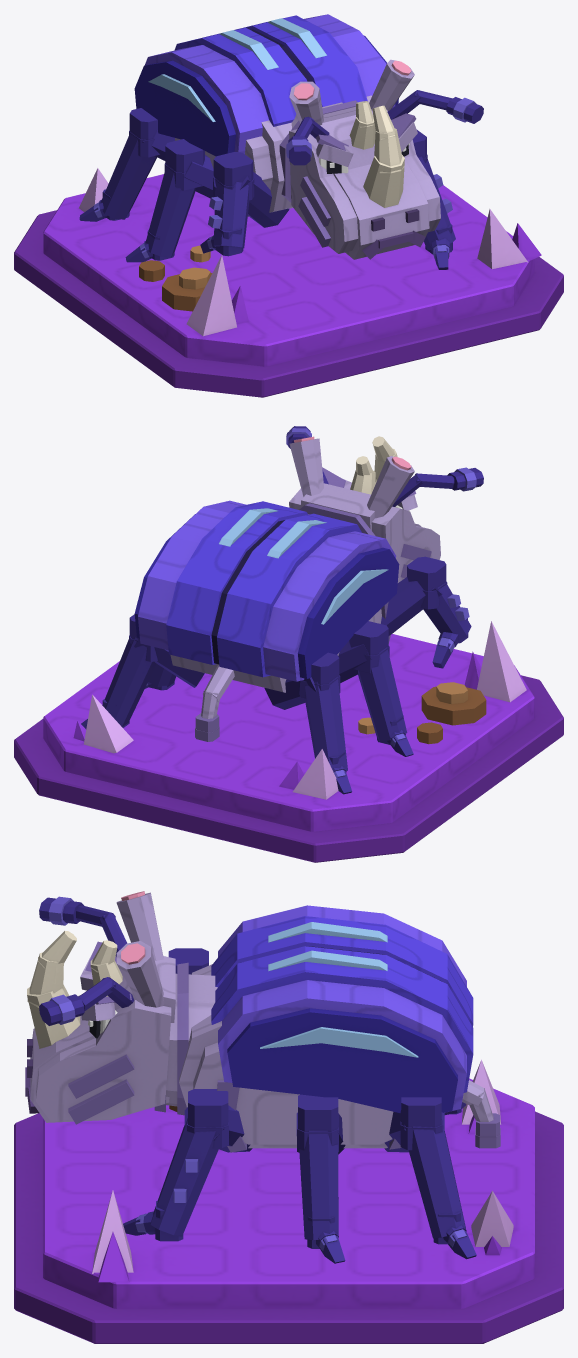
Rendered from RhinoBeetle.fbx.
3 renders of one model, top to bottom at view 1: azimuth 30°, elevation 25°; view 2: azimuth 150°, elevation 25°; view 3: azimuth 270°, elevation 25°, orthographic. The views are drawn at different scales.
Parts seen in each view (by area): view 1: Art_RhinoBeetle_Stand, Art_RhinoBeetle_Head, Art_RhinoBeetle_ElytraR, Art_RhinoBeetle_ElytraL, Art_RhinoBeetle_LegFR, Art_RhinoBeetle_LegMR, Art_RhinoBeetle_LegBR, Art_RhinoBeetle_Body, Art_RhinoBeetle_Haze, Art_RhinoBeetle_LegFL, Art_RhinoBeetle_EarL, Art_RhinoBeetle_EarR; view 2: Art_RhinoBeetle_Stand, Art_RhinoBeetle_ElytraR, Art_RhinoBeetle_ElytraL, Art_RhinoBeetle_Head, Art_RhinoBeetle_LegMR, Art_RhinoBeetle_LegFR, Art_RhinoBeetle_LegBR, Art_RhinoBeetle_LegBL, Art_RhinoBeetle_Haze, Art_RhinoBeetle_Body, Art_RhinoBeetle_EarR, Art_RhinoBeetle_Tail (+1 smaller); view 3: Art_RhinoBeetle_Stand, Art_RhinoBeetle_ElytraL, Art_RhinoBeetle_Head, Art_RhinoBeetle_ElytraR, Art_RhinoBeetle_Body, Art_RhinoBeetle_LegFL, Art_RhinoBeetle_LegBL, Art_RhinoBeetle_LegML, Art_RhinoBeetle_EarL, Art_RhinoBeetle_EarR, Art_RhinoBeetle_Tail, Art_RhinoBeetle_LegFR.
Part boxes in pixels (box(x1,y1,x2,y2)): Art_RhinoBeetle_Stand: box(14, 168, 563, 397); Art_RhinoBeetle_Head: box(279, 90, 483, 259); Art_RhinoBeetle_ElytraR: box(134, 27, 307, 156); Art_RhinoBeetle_ElytraL: box(234, 14, 398, 108); Art_RhinoBeetle_LegFR: box(200, 152, 289, 256); Art_RhinoBeetle_LegMR: box(125, 139, 214, 262); Art_RhinoBeetle_LegBR: box(79, 108, 175, 221); Art_RhinoBeetle_Body: box(175, 29, 371, 216); Art_RhinoBeetle_Haze: box(139, 245, 212, 311); Art_RhinoBeetle_LegFL: box(412, 130, 455, 269); Art_RhinoBeetle_EarL: box(369, 59, 414, 110); Art_RhinoBeetle_EarR: box(289, 81, 323, 125); Art_RhinoBeetle_Stand: box(14, 621, 563, 862); Art_RhinoBeetle_ElytraR: box(217, 513, 399, 681); Art_RhinoBeetle_ElytraL: box(134, 500, 307, 664); Art_RhinoBeetle_Head: box(286, 426, 483, 582); Art_RhinoBeetle_LegMR: box(338, 621, 413, 756); Art_RhinoBeetle_LegFR: box(380, 556, 471, 668); Art_RhinoBeetle_LegBR: box(264, 652, 351, 794); Art_RhinoBeetle_LegBL: box(81, 614, 204, 729); Art_RhinoBeetle_Haze: box(358, 682, 486, 744); Art_RhinoBeetle_Body: box(170, 520, 398, 692); Art_RhinoBeetle_EarR: box(367, 456, 414, 518); Art_RhinoBeetle_Tail: box(195, 665, 234, 741); Art_RhinoBeetle_Stand: box(14, 1059, 563, 1343); Art_RhinoBeetle_ElytraL: box(211, 946, 473, 1112); Art_RhinoBeetle_Head: box(25, 896, 217, 1124); Art_RhinoBeetle_ElytraR: box(211, 905, 473, 1026); Art_RhinoBeetle_Body: box(179, 946, 442, 1152); Art_RhinoBeetle_LegFL: box(123, 1089, 252, 1241); Art_RhinoBeetle_LegBL: box(384, 1097, 476, 1259); Art_RhinoBeetle_LegML: box(296, 1094, 345, 1263); Art_RhinoBeetle_EarL: box(116, 941, 164, 1007); Art_RhinoBeetle_EarR: box(116, 891, 163, 960); Art_RhinoBeetle_Tail: box(462, 1080, 500, 1148); Art_RhinoBeetle_LegFR: box(168, 948, 208, 974).
Bounding box in the file's own units: 3.4 × 2.11 × 3.4.
